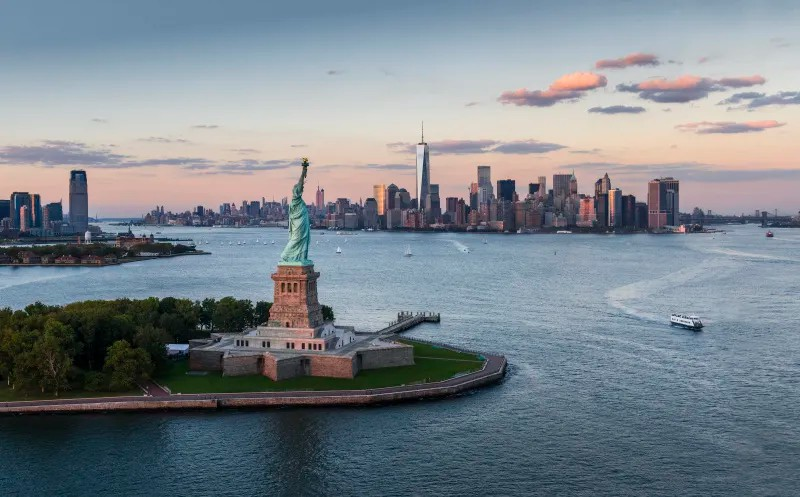SL: (267, 158, 323, 329)
